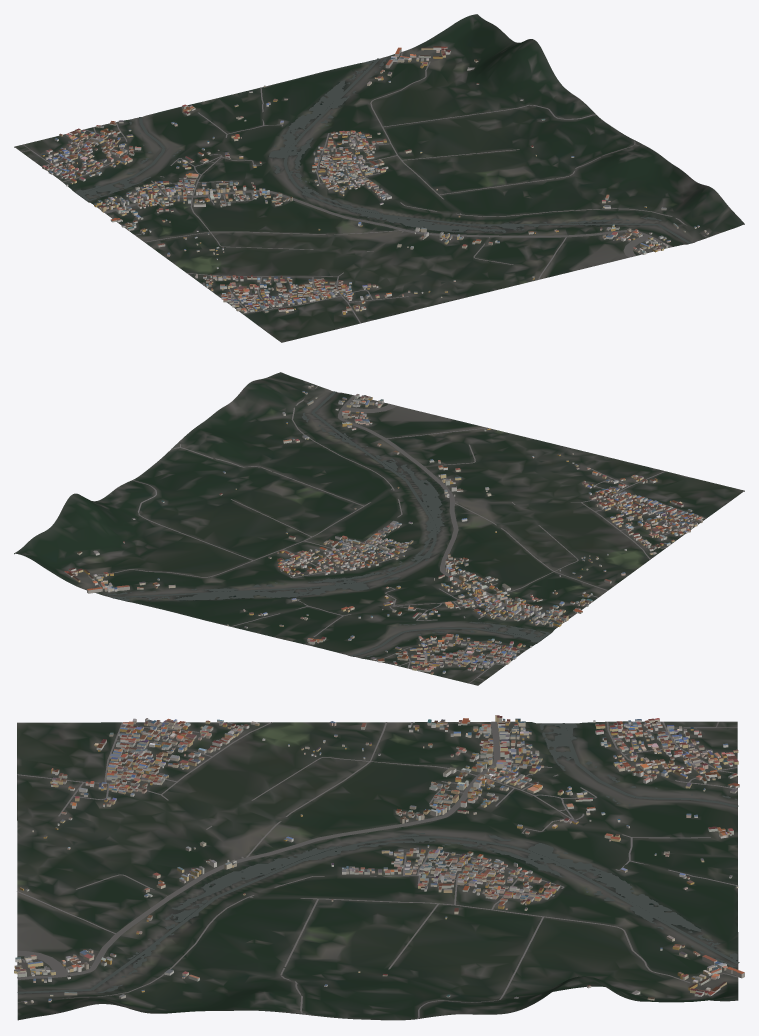
3 renders of one model, top to bottom at view 1: azimuth 30°, elevation 25°; view 2: azimuth 150°, elevation 25°; view 3: azimuth 270°, elevation 25°, orthographic. The views are drawn at different scales.
Visible parts, largest first — view 1: ground, buildings, roads, water; view 2: ground, buildings, water, roads; view 3: ground, buildings, water, roads.
Boxes of the visible parts, bbox=[...] form: ground: bbox=[14, 14, 744, 342]; buildings: bbox=[41, 46, 708, 314]; roads: bbox=[21, 51, 708, 323]; water: bbox=[75, 56, 691, 243]; ground: bbox=[14, 372, 744, 685]; buildings: bbox=[64, 385, 703, 674]; water: bbox=[104, 391, 549, 658]; roads: bbox=[97, 385, 705, 683]; ground: bbox=[17, 721, 738, 1020]; buildings: bbox=[14, 715, 744, 1003]; water: bbox=[17, 723, 739, 993]; roads: bbox=[17, 721, 737, 1018].
Bounding box in the file's own units: 1416 × 110 × 1422.
